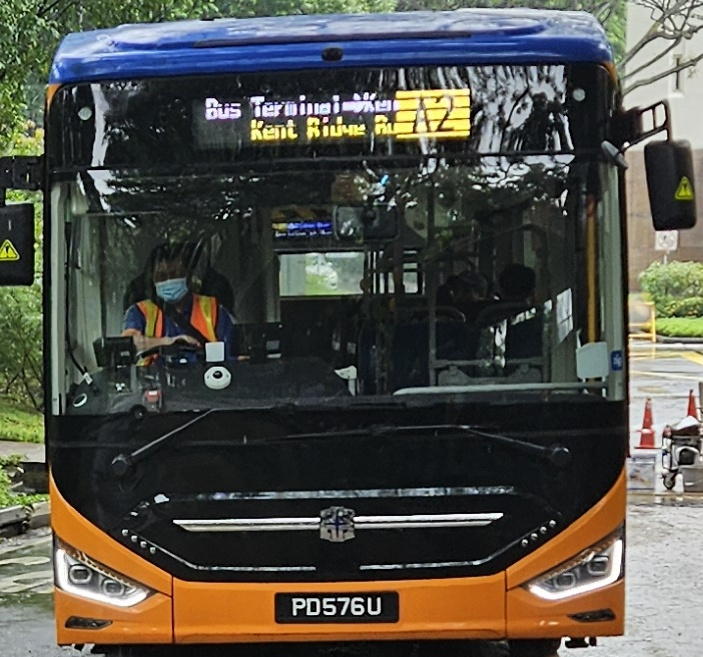bus: (393, 90, 471, 138)
